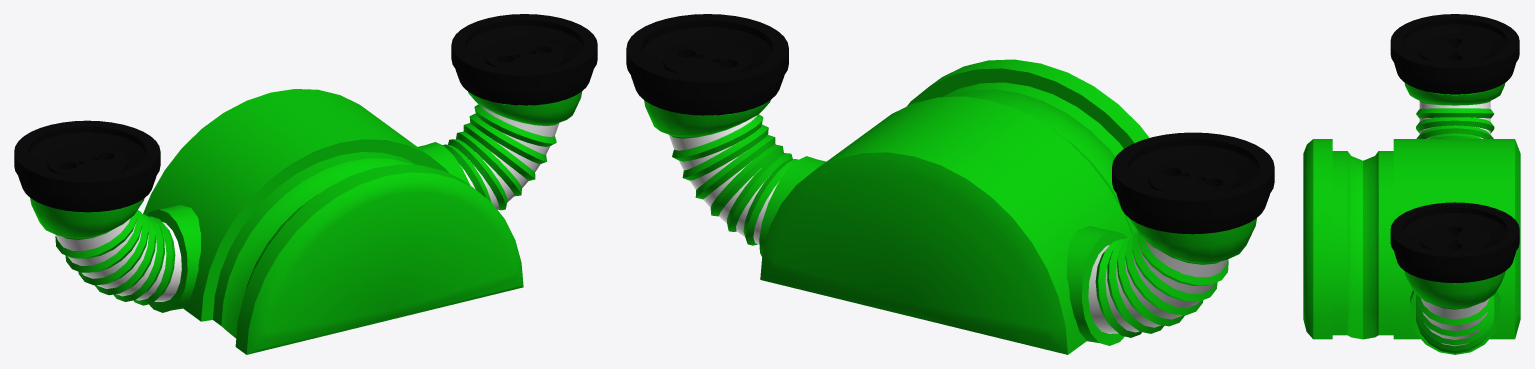
The model's file is ST_Transfer.fbx.
3 views of the same model, side by side, from view 1: azimuth 30°, elevation 25°; view 2: azimuth 150°, elevation 25°; view 3: azimuth 270°, elevation 25° (orthographic). The views are drawn at different scales.
Parts seen in each view (by area): view 1: ST_Transfer; view 2: ST_Transfer; view 3: ST_Transfer.
Boxes of the visible parts, x1,y1,x2,y2 form: ST_Transfer: (14,14,597,354); ST_Transfer: (626,14,1274,354); ST_Transfer: (1303,14,1520,354).
Size of the model in its own units: 245 by 72.21 by 92.64.
